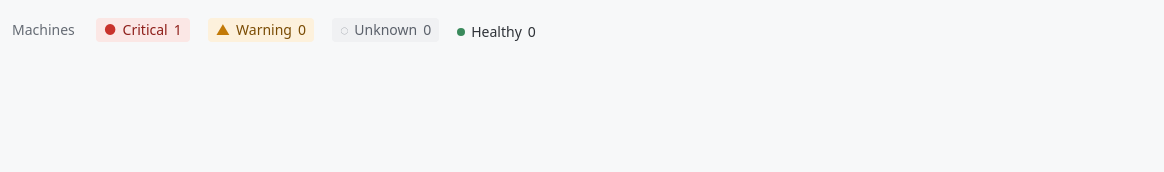
Test: machine list rows › show a reason when Critical comes from an open alert while the reading is below the limit
Step 1. Click the button "● Critical 1" → (143, 30), box [91,12,195,47]
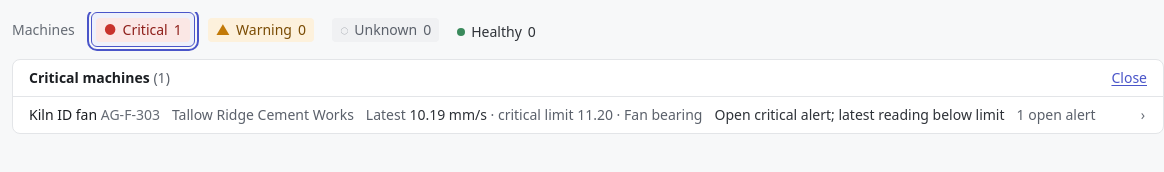
Expected: the element showing "Latest 10.19 mm/s · critical limit 11.20 · Fan bearing" is shown, [366,105,702,125]
Expected: the list item "Kiln ID fan" shows "Open critical alert; latest reading below limit", [13,97,1163,133]
